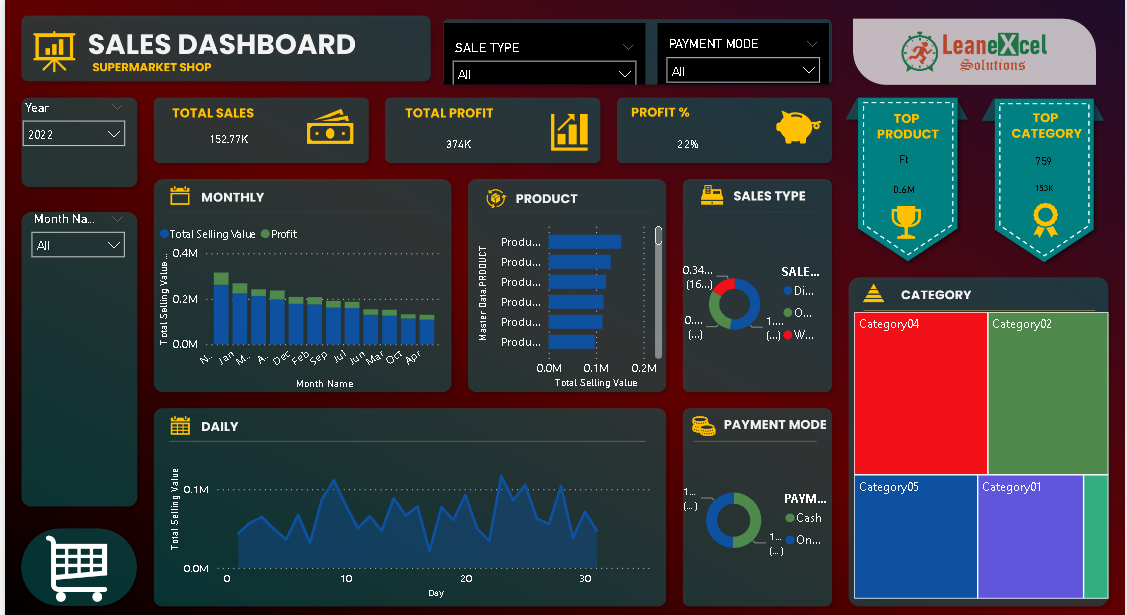

This screenshot's page, from the dashboard's own definition file:
{"tool":"powerbi","page":{"name":"Supermarket sales","canvas":[1280,720],"ordinal":0},"visuals":[{"type":"slicer","fields":{"Values":["InputData.Year"]},"box":[10,111.4,137.1,102.9],"z":0},{"type":"slicer","fields":{"Values":["InputData.Month Name"]},"box":[20,238.6,127.1,331.4],"z":1000},{"type":"slicer","title":"Sales Type","fields":{"Values":["InputData.SALE TYPE"]},"box":[501.4,28.6,230,70],"z":2000},{"type":"slicer","title":"Payment Type","fields":{"Values":["InputData.PAYMENT MODE"]},"box":[745.7,28.6,195.7,70],"z":3000},{"type":"card","fields":{"Values":["Sum(InputData.Total Selling Value)"]},"box":[171.4,137.1,167.1,51.4],"z":4000},{"type":"card","fields":{"Values":["InputData.Profit"]},"box":[437.1,150,161.4,38.6],"z":5000},{"type":"card","fields":{"Values":["Sum(InputData.QUANTITY)"]},"box":[1142.9,162.9,88.6,51.4],"z":6000},{"type":"card","fields":{"Values":["InputData.Profit %"]},"box":[698.6,150,164.3,37.1],"z":7000},{"type":"card","fields":{"Values":["Sum(InputData.Total Selling Value)"]},"box":[1151.4,202.9,71.4,32.9],"z":8000},{"type":"card","fields":{"Values":["Sum(InputData.Total Selling Value)"]},"box":[990,205.7,75.7,27.1],"z":9000},{"type":"card","fields":{"Values":["Min(InputData.Master Data.UOM)"]},"box":[990,167.1,75.7,38.6],"z":10000},{"type":"columnChart","fields":{"Category":["InputData.Month Name"],"Y":["Sum(InputData.Total Selling Value)","InputData.Profit"]},"box":[171.4,250,332.9,201.4],"z":11000},{"type":"clusteredBarChart","fields":{"Category":["InputData.Master Data.PRODUCT"],"Y":["Sum(InputData.Total Selling Value)"]},"box":[535.7,248.6,220,202.9],"z":12000},{"type":"areaChart","fields":{"Category":["InputData.Day"],"Y":["Sum(InputData.Total Selling Value)"]},"box":[184.3,502.9,561.4,188.6],"z":13000},{"type":"donutChart","fields":{"Y":["Sum(InputData.Total Selling Value)"],"Category":["InputData.SALE TYPE"]},"box":[774.3,248.6,167.1,202.9],"z":14000},{"type":"donutChart","fields":{"Category":["InputData.PAYMENT MODE"],"Y":["CountNonNull(InputData.SALE TYPE)"]},"box":[770,502.9,177.1,188.6],"z":15000},{"type":"treemap","fields":{"Group":["InputData.Master Data.CATEGORY.1"],"Values":["Sum(InputData.Total Selling Value)"]},"box":[965.7,354.3,300,337.1],"z":16000}]}

Visuals, with their boxes on the page's 1280x720 design canvas (x1, y1, x2, y2). These are canvas units, not pixel positions in the 1127x615 screenshot, which may show the page scaled, cropped or inside an application window:
slicer - InputData.Year: l=10, t=111, r=147, b=214
slicer - InputData.Month Name: l=20, t=239, r=147, b=570
"Sales Type" slicer: l=501, t=29, r=731, b=99
"Payment Type" slicer: l=746, t=29, r=941, b=99
card - Sum(InputData.Total Selling Value): l=171, t=137, r=338, b=188
card - InputData.Profit: l=437, t=150, r=598, b=189
card - Sum(InputData.QUANTITY): l=1143, t=163, r=1232, b=214
card - InputData.Profit %: l=699, t=150, r=863, b=187
card - Sum(InputData.Total Selling Value): l=1151, t=203, r=1223, b=236
card - Sum(InputData.Total Selling Value): l=990, t=206, r=1066, b=233
card - Min(InputData.Master Data.UOM): l=990, t=167, r=1066, b=206
columnChart - InputData.Month Name x Sum(InputData.Total Selling Value): l=171, t=250, r=504, b=451
clusteredBarChart - InputData.Master Data.PRODUCT x Sum(InputData.Total Selling Value): l=536, t=249, r=756, b=452
areaChart - InputData.Day x Sum(InputData.Total Selling Value): l=184, t=503, r=746, b=692
donutChart - Sum(InputData.Total Selling Value) x InputData.SALE TYPE: l=774, t=249, r=941, b=452
donutChart - InputData.PAYMENT MODE x CountNonNull(InputData.SALE TYPE): l=770, t=503, r=947, b=692
treemap - InputData.Master Data.CATEGORY.1 x Sum(InputData.Total Selling Value): l=966, t=354, r=1266, b=691
